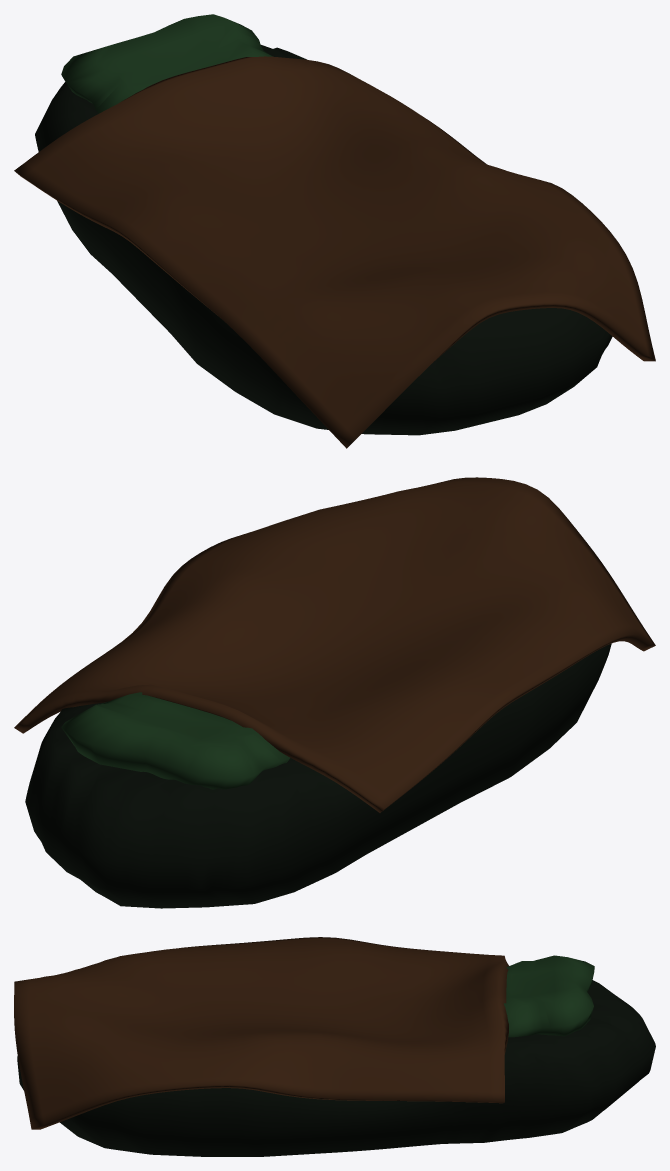
The model's file is Comet Bed.obj.
3 renders of one model, top to bottom at view 1: azimuth 30°, elevation 25°; view 2: azimuth 150°, elevation 25°; view 3: azimuth 270°, elevation 25°, orthographic. The views are drawn at different scales.
Visible parts, largest first — view 1: Plane, Bed, Pillow; view 2: Plane, Bed, Pillow; view 3: Plane, Bed, Pillow.
Boxes of the visible parts, left/top/right/bottom form: Plane: left=14, top=56, right=655, bottom=448; Bed: left=35, top=45, right=612, bottom=435; Pillow: left=61, top=14, right=273, bottom=113; Plane: left=14, top=477, right=655, bottom=812; Bed: left=25, top=643, right=611, bottom=908; Pillow: left=61, top=692, right=289, bottom=789; Plane: left=14, top=937, right=508, bottom=1129; Bed: left=17, top=980, right=655, bottom=1156; Pillow: left=504, top=955, right=594, bottom=1037.
Bounding box in the file's own units: 155 × 61.29 × 288.
